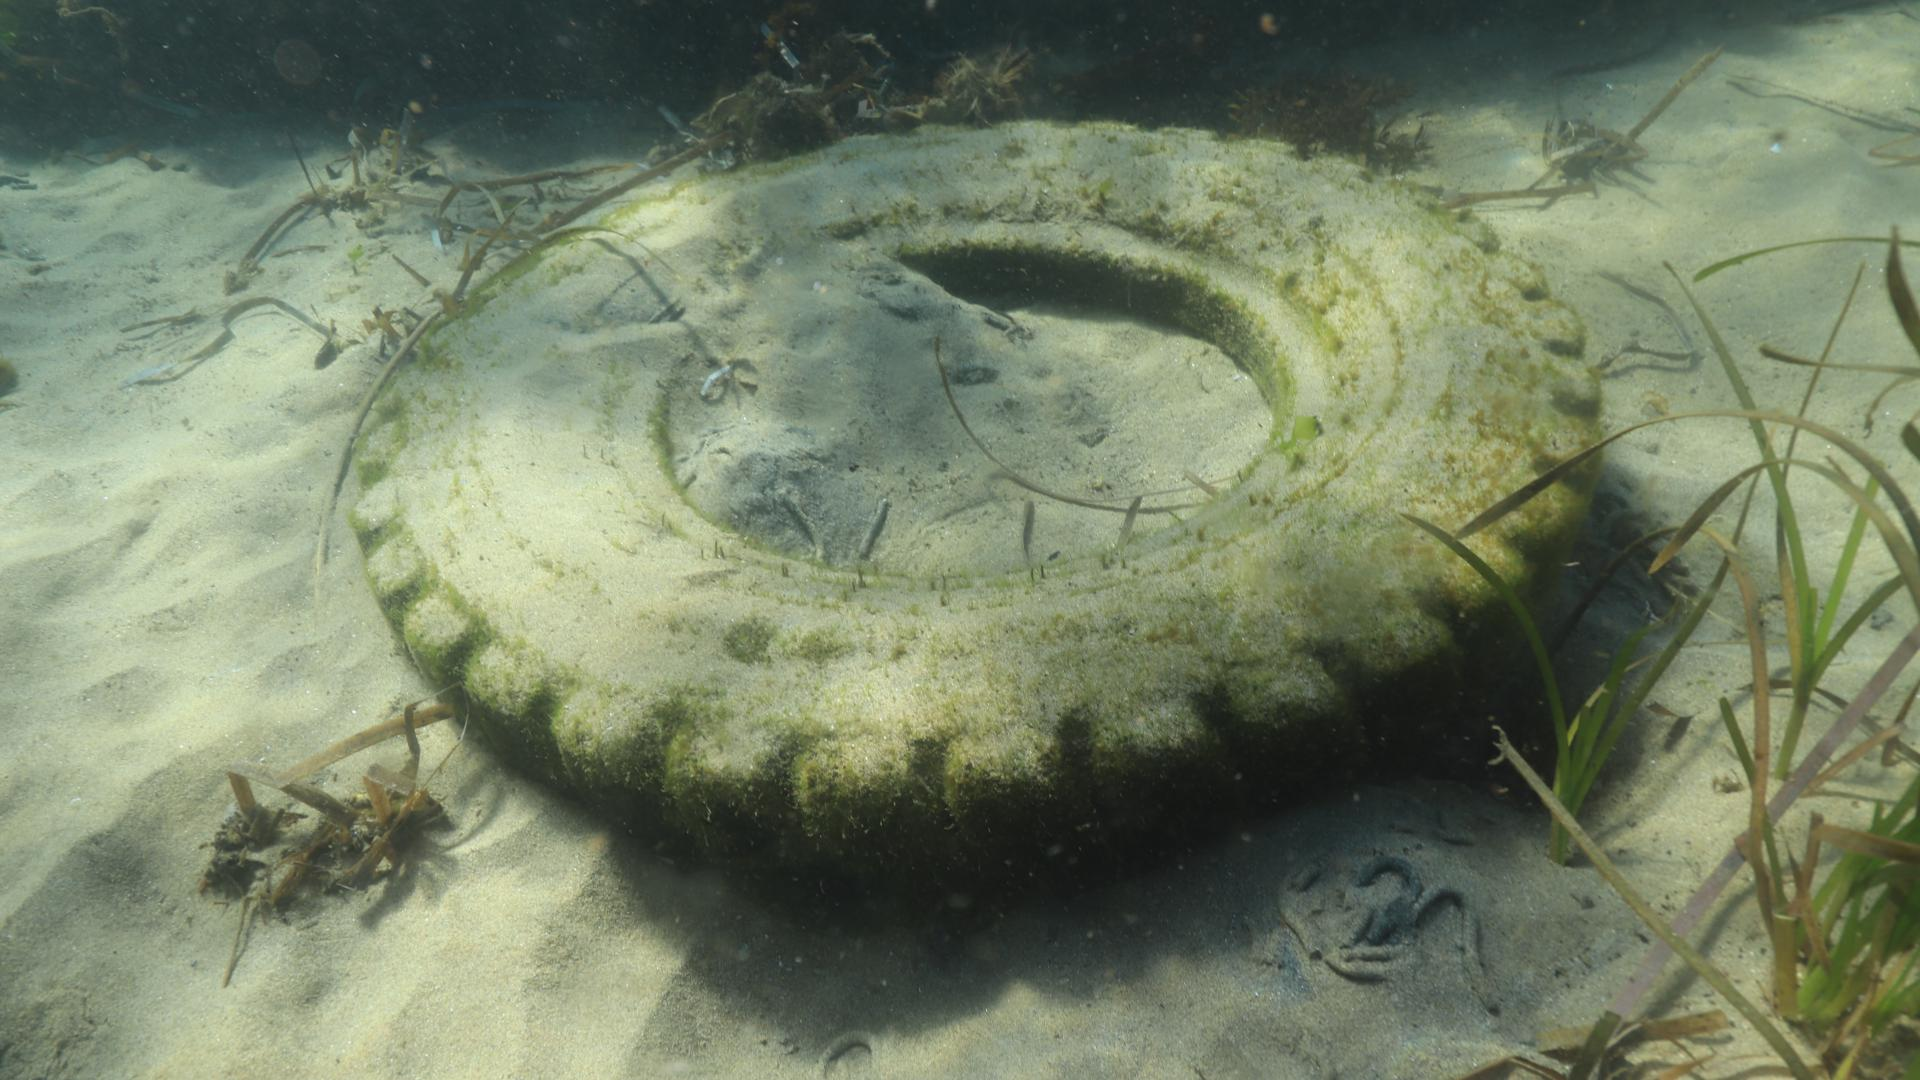tire: (349, 117, 1604, 895)
